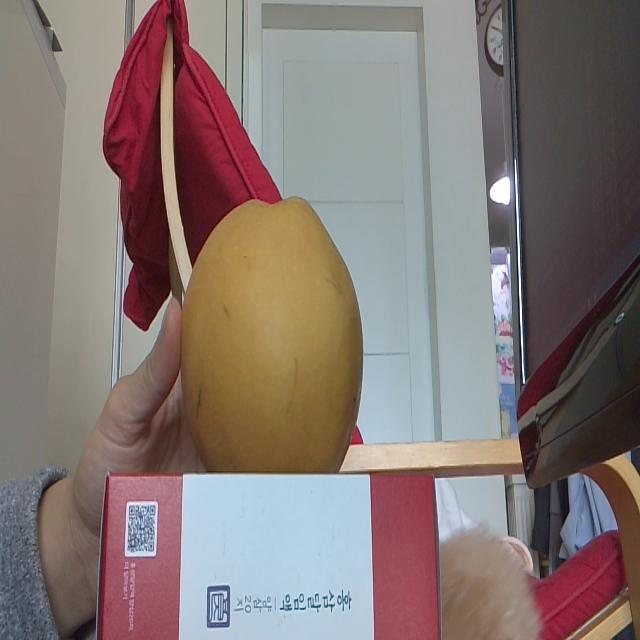pear: (178, 194, 366, 476)
